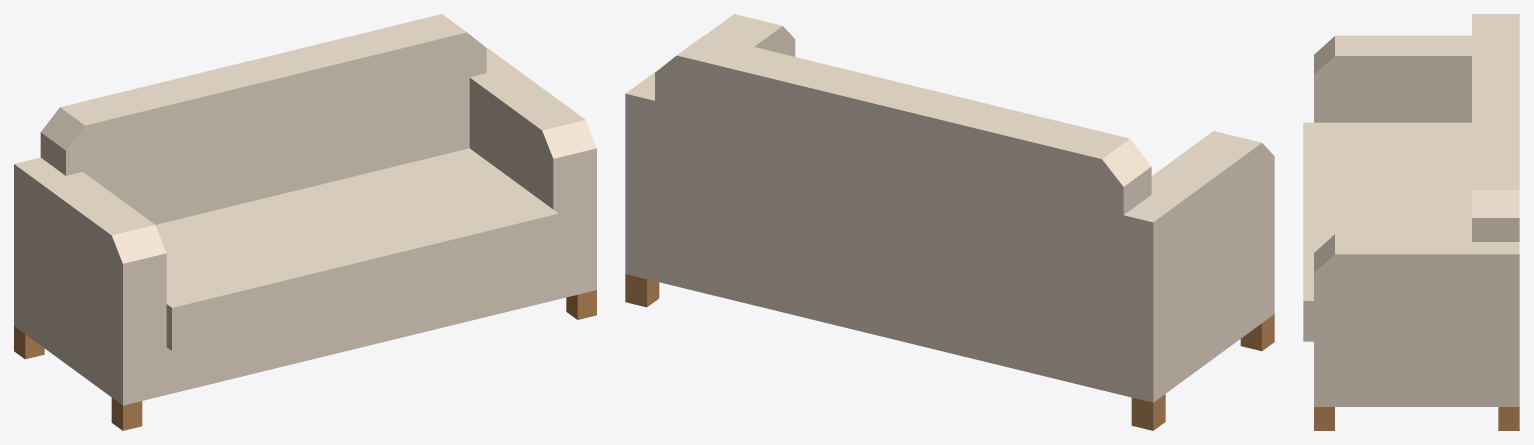
File: kitLoungeSofa.glb
3 views of the same model, side by side, from view 1: azimuth 30°, elevation 25°; view 2: azimuth 150°, elevation 25°; view 3: azimuth 270°, elevation 25° (orthographic). The views are drawn at different scales.
Visible parts, largest first — view 1: kitLoungeSofa_fabric, kitLoungeSofa_wood; view 2: kitLoungeSofa_fabric, kitLoungeSofa_wood; view 3: kitLoungeSofa_fabric, kitLoungeSofa_wood.
Part boxes in pixels (left/top/right/bottom): kitLoungeSofa_fabric: left=14, top=14, right=596, bottom=405; kitLoungeSofa_wood: left=14, top=290, right=596, bottom=430; kitLoungeSofa_fabric: left=625, top=14, right=1274, bottom=402; kitLoungeSofa_wood: left=625, top=274, right=1274, bottom=430; kitLoungeSofa_fabric: left=1303, top=14, right=1519, bottom=406; kitLoungeSofa_wood: left=1314, top=407, right=1519, bottom=430.
Size of the model in its own units: 1.96 by 0.92 by 0.82.
